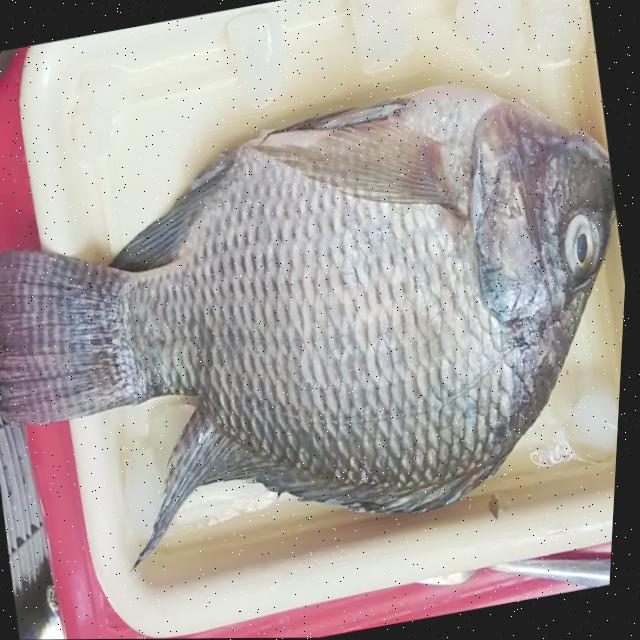Fresh: (0, 83, 581, 615), (532, 174, 627, 303)
